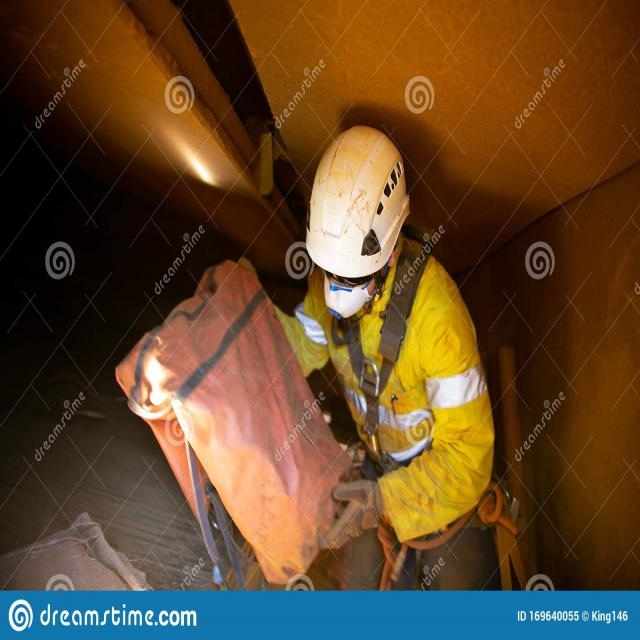Reflective-Jacket: (281, 261, 510, 567)
Safety-Helmet: (302, 122, 412, 274)
